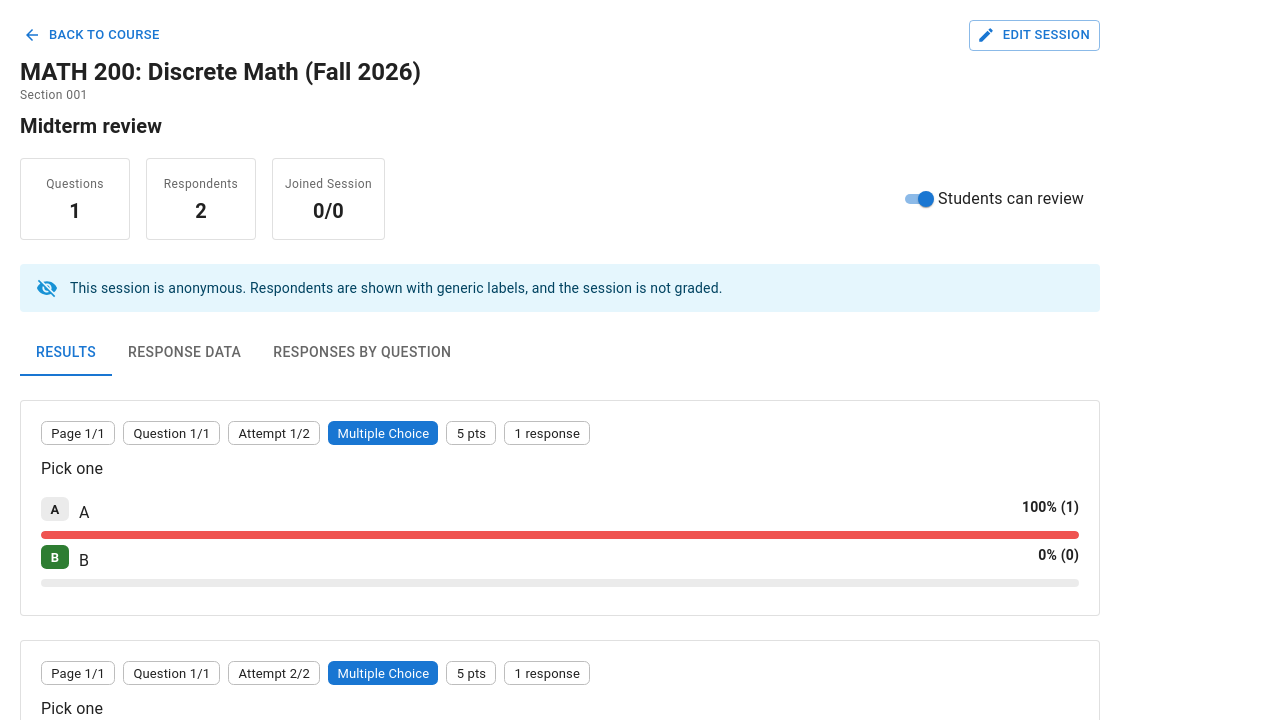
Test case: SessionReview › disables timestamp exports and timelines for anonymous activities
Expected: the heading "Midterm review" is shown, [20,114,162,138]
What coordinates should you click on to do the following:
click the tab "Response Data"
I would click on:
 (185, 352)
Its box is [112,328,257,376].
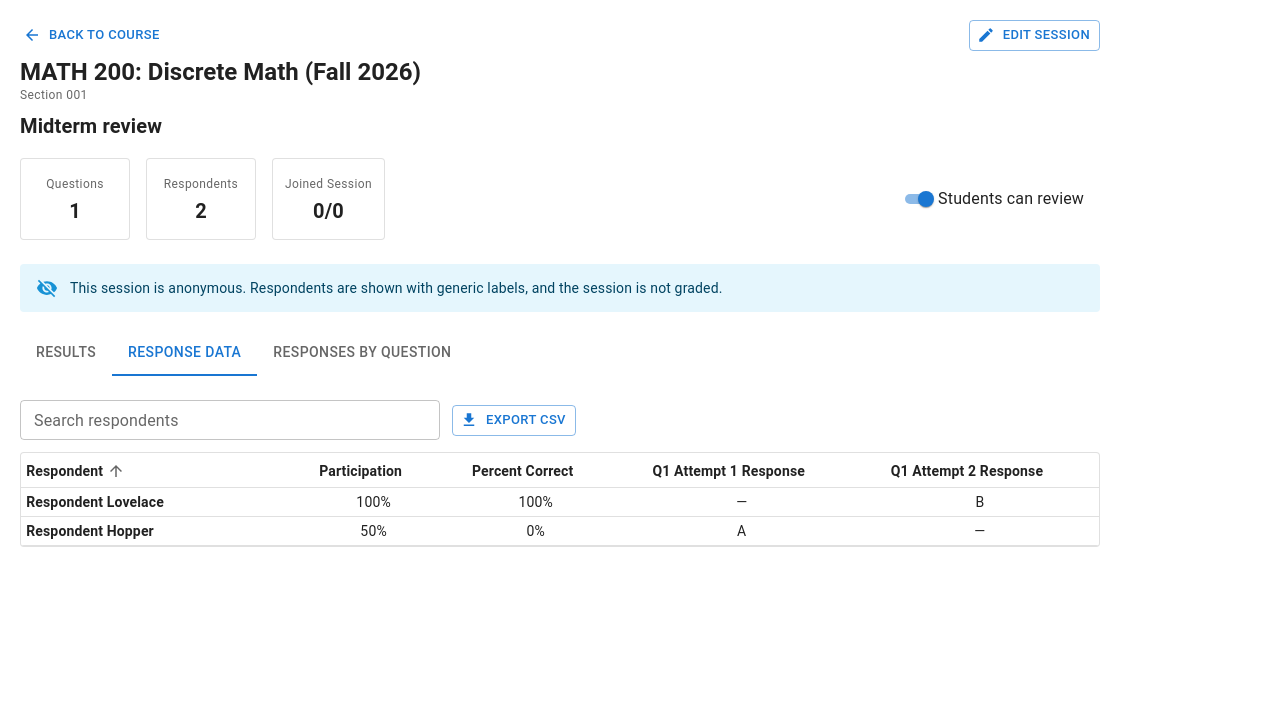
What coordinates should you click on to do the following:
click the button with aria-label "export results to csv"
I would click on:
 (514, 420)
Its box is [452,405,576,436].
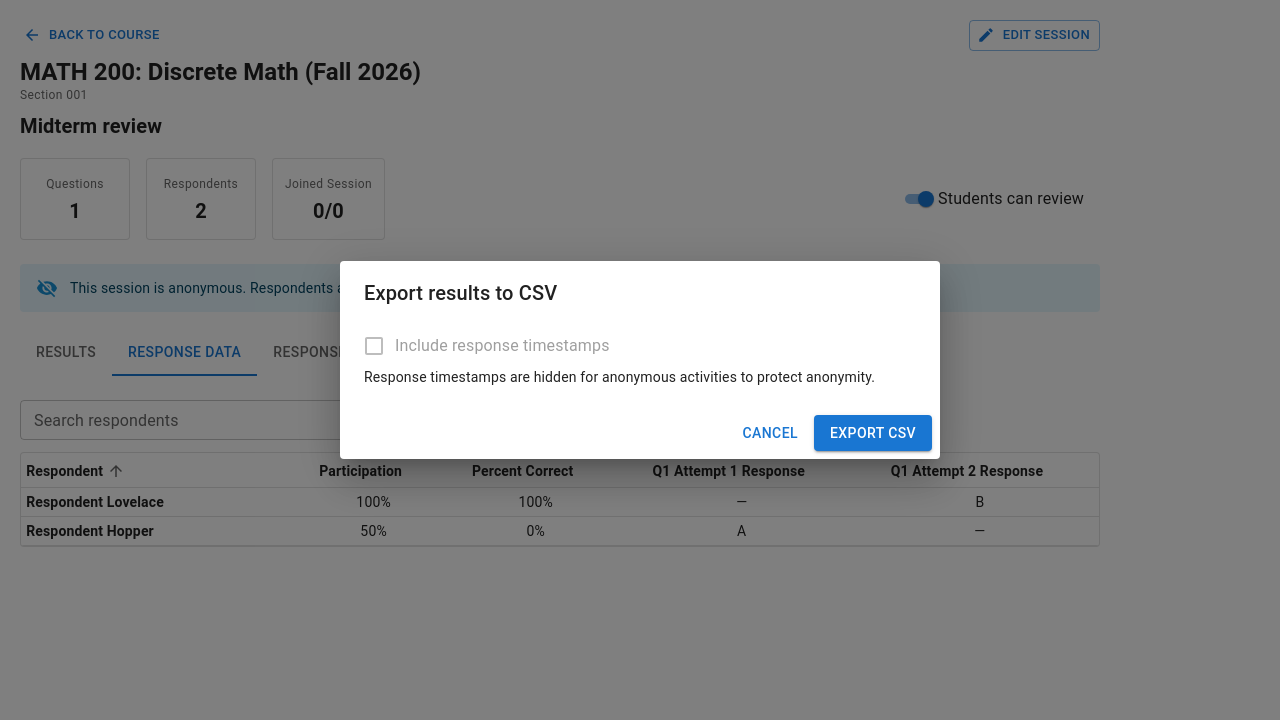
Expected: the checkbox labelled "Include response timestamps" is disabled, [362,334,610,358]
Expected: the text "timestamps are hidden for anonymous activities" is shown, [364,369,875,385]
